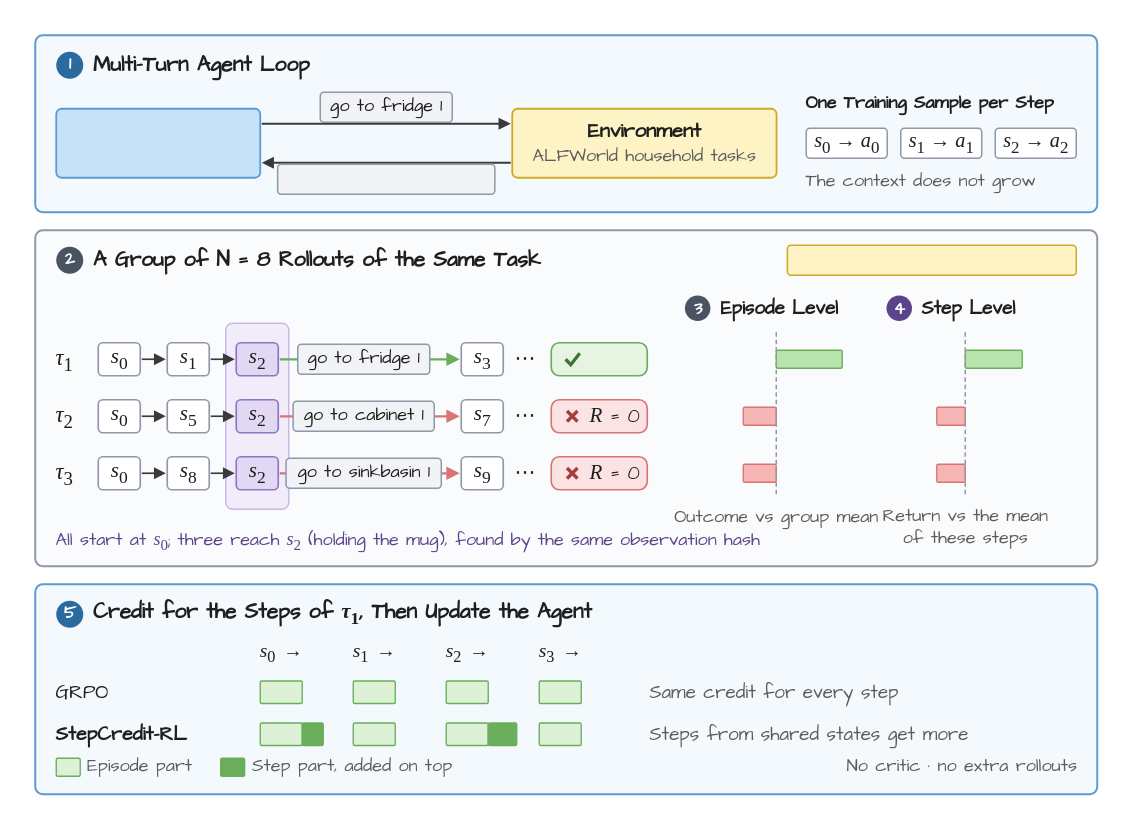
Image size: 1131x828. Some labels were removed from this diagram. Each missing label, with the box of its shape:
LLM Agent Qwen3-4B: (55, 107, 260, 178)
R = 1: (550, 341, 647, 376)
Task: “put a cool mug in cabinet”: (786, 244, 1076, 275)
“You arrive at fridge 1.”: (276, 163, 495, 194)
